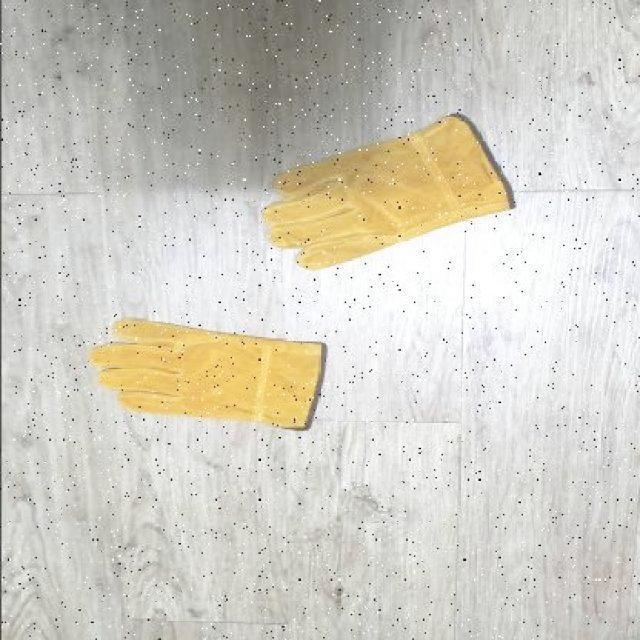Guantes: (68, 306, 340, 455), (253, 137, 531, 271)
